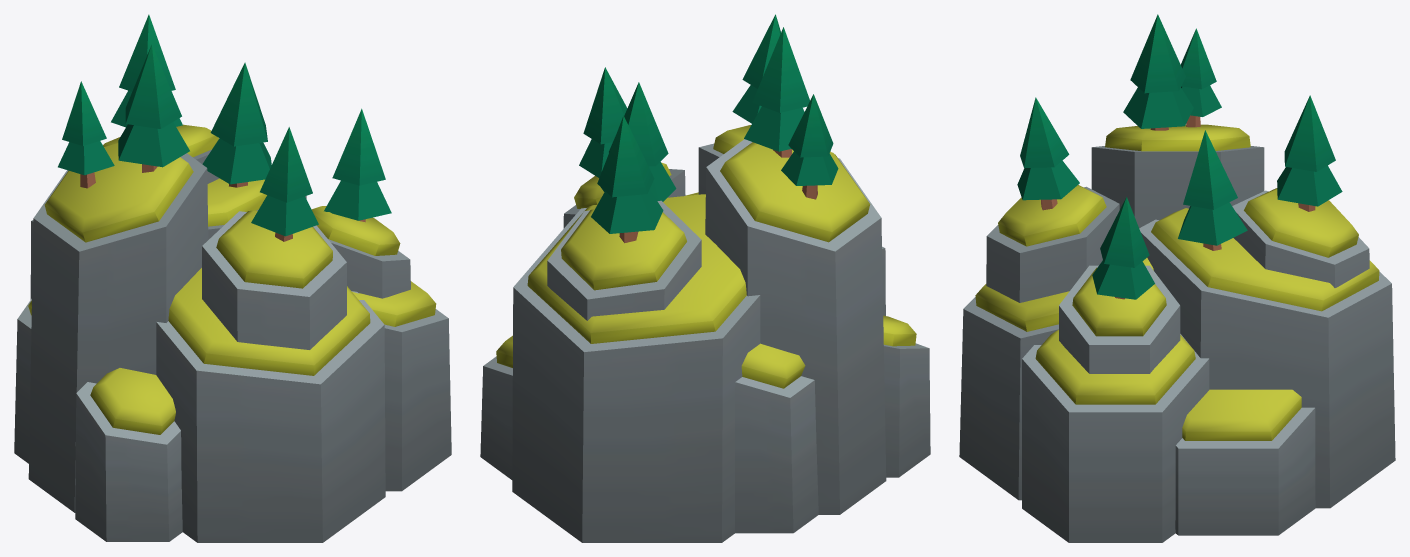
File: crag_b.glb
3 renders of one model, left to right at view 1: azimuth 30°, elevation 25°; view 2: azimuth 150°, elevation 25°; view 3: azimuth 270°, elevation 25°, orthographic. The views are drawn at different scales.
Visible parts, largest first — view 1: mountain_C_grass_trees; view 2: mountain_C_grass_trees; view 3: mountain_C_grass_trees.
Boxes of the visible parts, bbox=[...] form: mountain_C_grass_trees: bbox=[14, 14, 451, 542]; mountain_C_grass_trees: bbox=[480, 14, 930, 542]; mountain_C_grass_trees: bbox=[959, 14, 1395, 542].
Size of the model in its own units: 1.76 by 2.11 by 2.02.
1 material, 1 textured.
